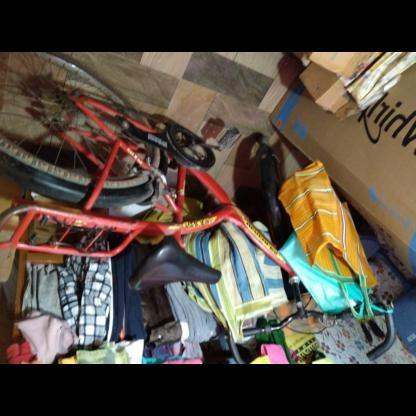Bicycle: (0, 52, 415, 312)
